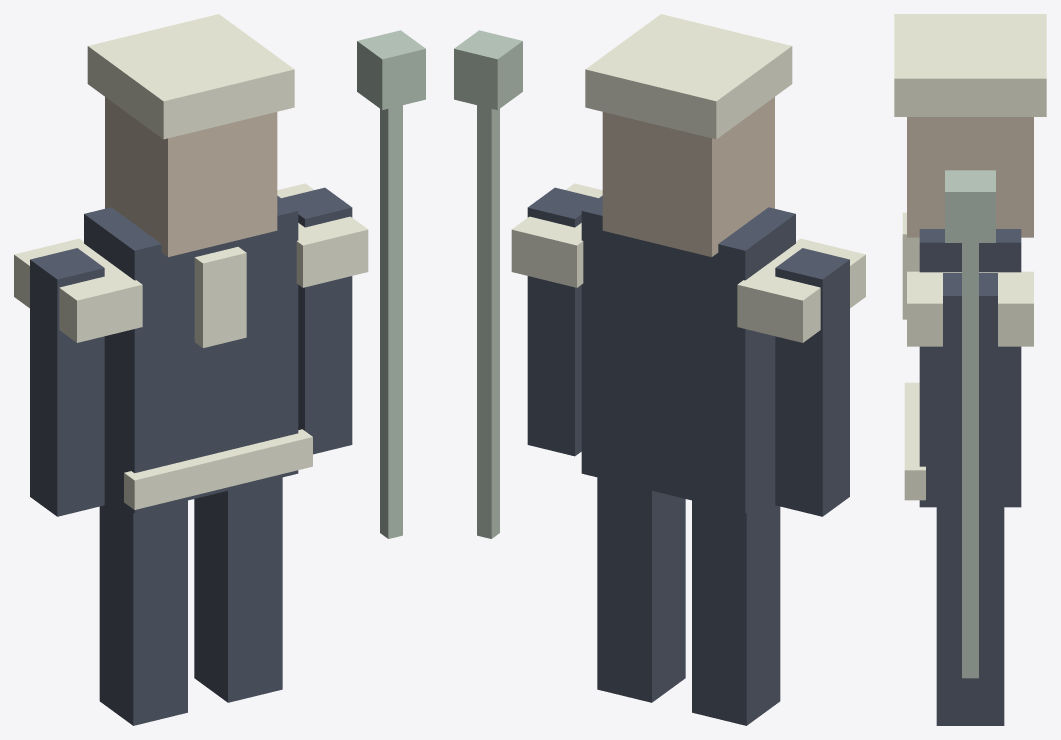
File: 06_isolde_trenchmark_pilgrim_near_maintenance.glb
3 renders of one model, left to right at view 1: azimuth 30°, elevation 25°; view 2: azimuth 150°, elevation 25°; view 3: azimuth 270°, elevation 25°, orthographic.
Visible parts, largest first — view 1: Isolde Trenchmark, Pilgrim near Maintenance; view 2: Isolde Trenchmark, Pilgrim near Maintenance; view 3: Isolde Trenchmark, Pilgrim near Maintenance.
Part boxes in pixels (x1=…): Isolde Trenchmark, Pilgrim near Maintenance: x1=14, y1=14, x2=425, y2=725; Isolde Trenchmark, Pilgrim near Maintenance: x1=454, y1=14, x2=865, y2=725; Isolde Trenchmark, Pilgrim near Maintenance: x1=894, y1=14, x2=1046, y2=725.
Bounding box in the file's own units: 1.02 × 1.69 × 0.3632.
